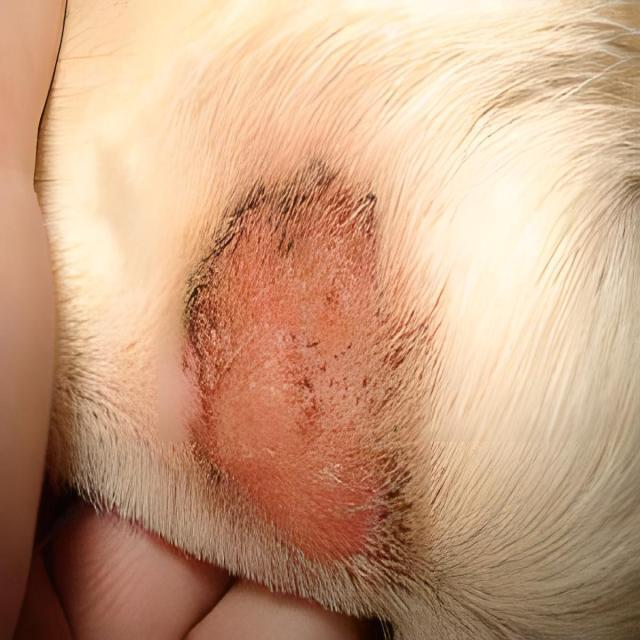hac lao: (128, 150, 450, 575)
